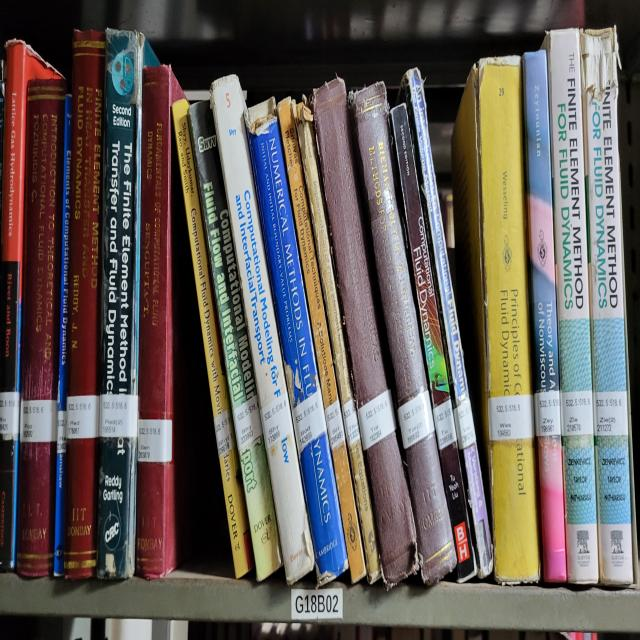Book: (311, 78, 419, 587), (350, 84, 456, 584), (211, 76, 315, 584), (391, 70, 492, 579), (245, 111, 348, 582), (401, 68, 492, 579), (452, 57, 540, 584), (189, 103, 282, 579), (135, 65, 219, 579), (278, 97, 366, 582), (296, 100, 381, 584), (171, 100, 254, 579), (0, 41, 59, 571), (580, 27, 635, 584), (545, 30, 599, 584), (98, 30, 144, 579), (18, 78, 65, 576), (522, 51, 566, 582), (64, 30, 105, 579), (54, 95, 71, 576)
Label: (292, 390, 326, 455), (358, 390, 395, 449), (398, 390, 435, 449), (488, 395, 534, 441), (261, 390, 292, 449), (232, 395, 262, 452), (100, 395, 138, 438), (594, 390, 629, 436), (20, 400, 58, 441), (561, 390, 594, 436), (138, 419, 172, 463), (66, 395, 100, 438), (534, 390, 561, 436), (432, 398, 456, 449), (454, 398, 476, 449), (325, 400, 345, 449), (214, 409, 234, 457), (342, 398, 360, 446), (58, 411, 66, 455)
